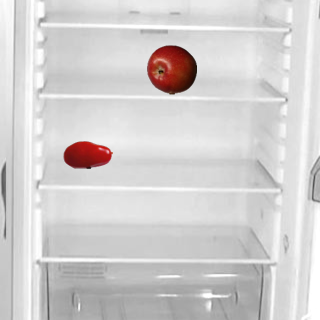Apple Braeburn: (146, 44, 196, 94)
Tomato 2: (62, 129, 112, 179)
